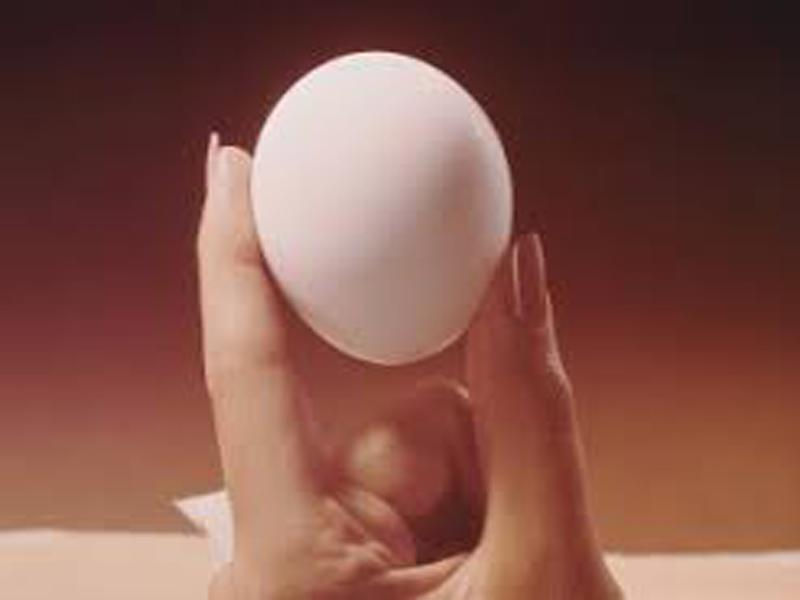Eggs: (250, 53, 517, 369)
